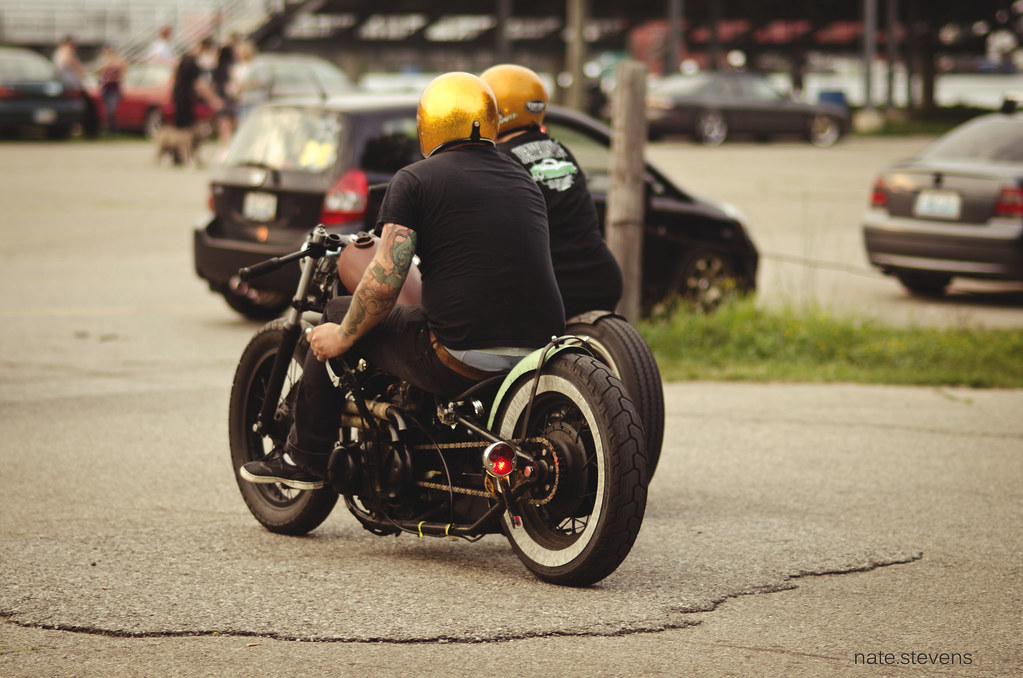helmet: (407, 66, 511, 165), (480, 52, 552, 130)
